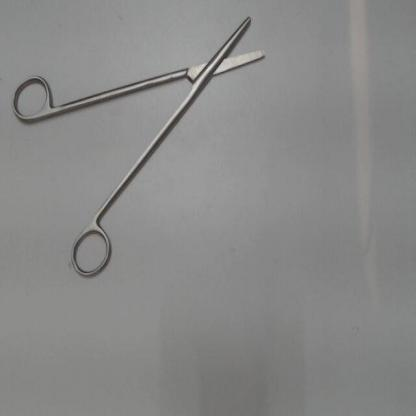9 Metzenbaum Scissors: (9, 14, 272, 286)
